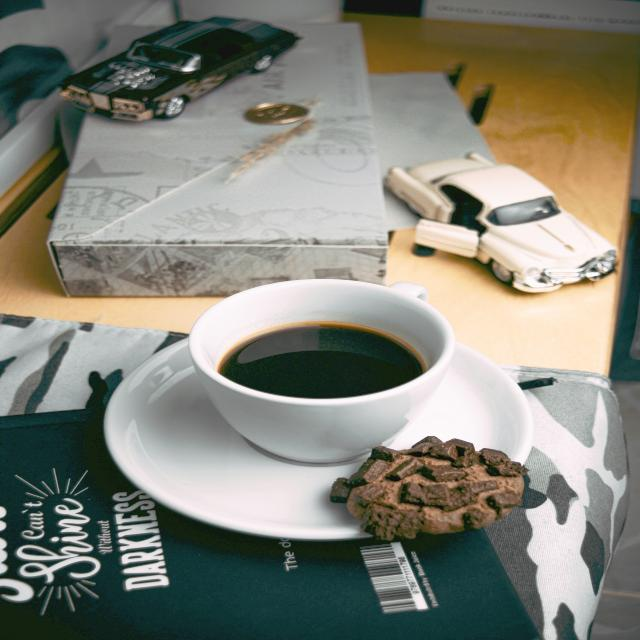drink: (186, 280, 458, 466)
